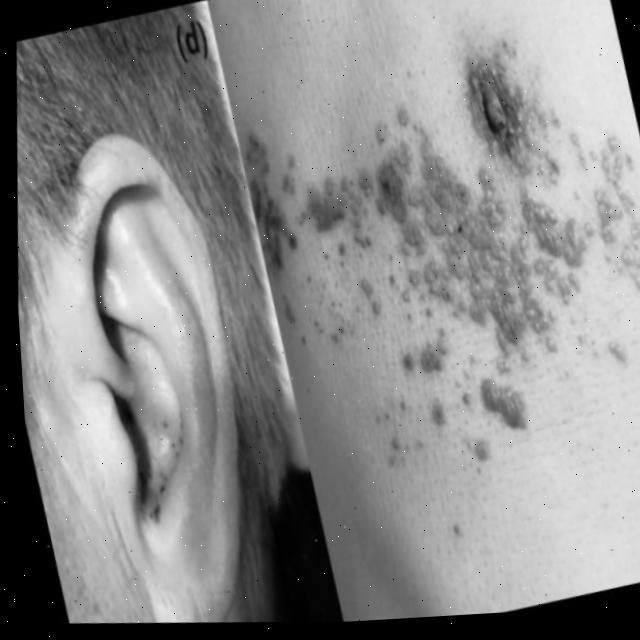Shingles: (225, 92, 640, 486)
